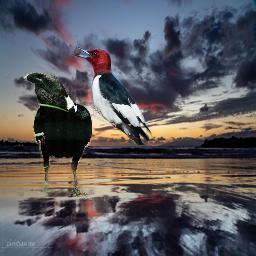Crow: (23, 72, 92, 197)
Woodpecker: (71, 44, 154, 145)
